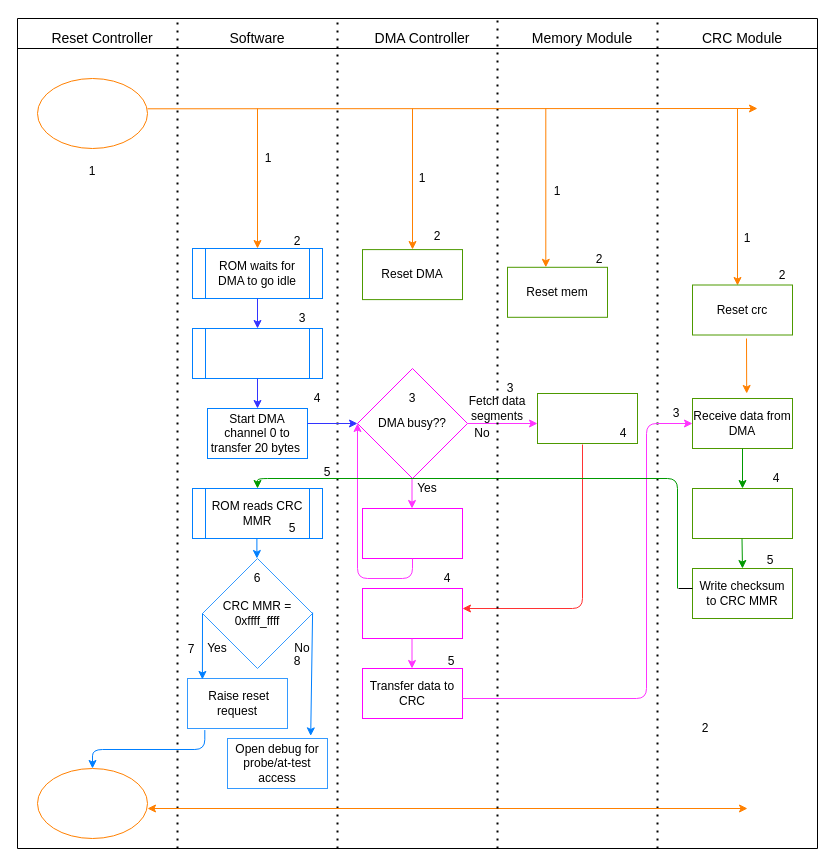
Image size: 836x867. Some labels were removed from this diagram. Each missing label, with the box of its shape:
Boot Reset: (36, 78, 148, 148)
Calculate checksum: (692, 488, 792, 538)
Polls until DMA busy is acquired: (362, 508, 462, 558)
Raise system-level reset: (36, 768, 148, 838)
Receive data from memory: (362, 588, 462, 638)
ROM waits for ~20 more cycles: (192, 328, 322, 378)
Send data segment: (536, 392, 638, 444)
